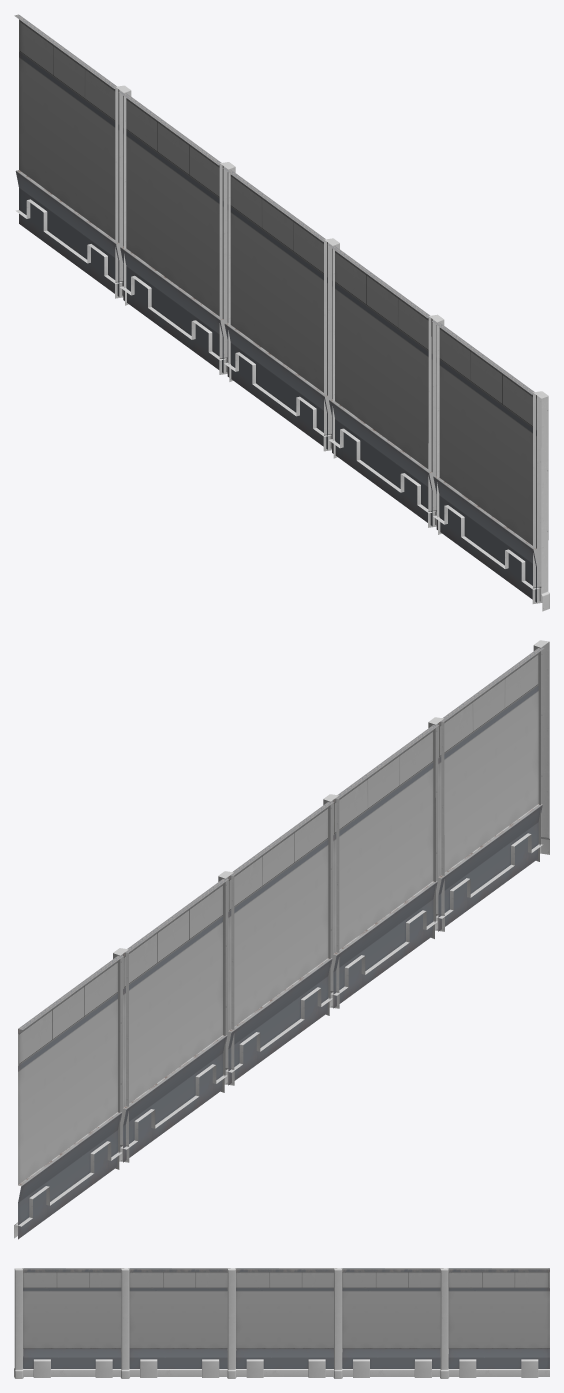
File: Pfb_JALB_WallPart2_Line__5.fbx
3 renders of one model, top to bottom at view 1: azimuth 30°, elevation 25°; view 2: azimuth 150°, elevation 25°; view 3: azimuth 270°, elevation 25°, orthographic. The views are drawn at different scales.
Parts seen in each view (by area): view 1: MAT_JLABWall; view 2: MAT_JLABWall; view 3: MAT_JLABWall.
Boxes of the visible parts, bbox=[...] form: MAT_JLABWall: bbox=[14, 14, 549, 611]; MAT_JLABWall: bbox=[14, 640, 549, 1239]; MAT_JLABWall: bbox=[14, 1268, 549, 1378].
Size of the model in its own units: 0.2509 by 4.04 by 18.14.
Materials: 1 (1 with a texture image).
